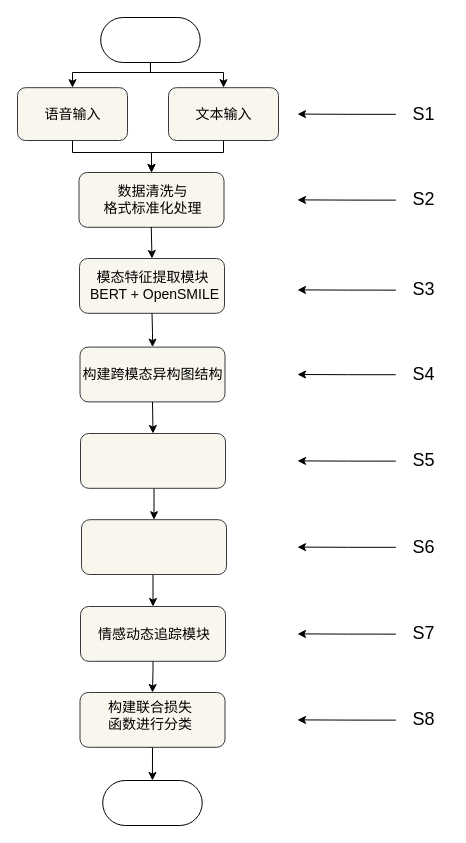
Some shapes in this 466 by 843 pixel diagram are drawn without their labels. Here are the shapes that lost their labels. From the top down, the box of each, then its label:
(100, 16, 200, 62): 开始
(80, 432, 226, 488): 图神经网络传播模块
(80, 519, 226, 574): 多层图卷积输出 进行融合
(102, 780, 202, 826): 结束
